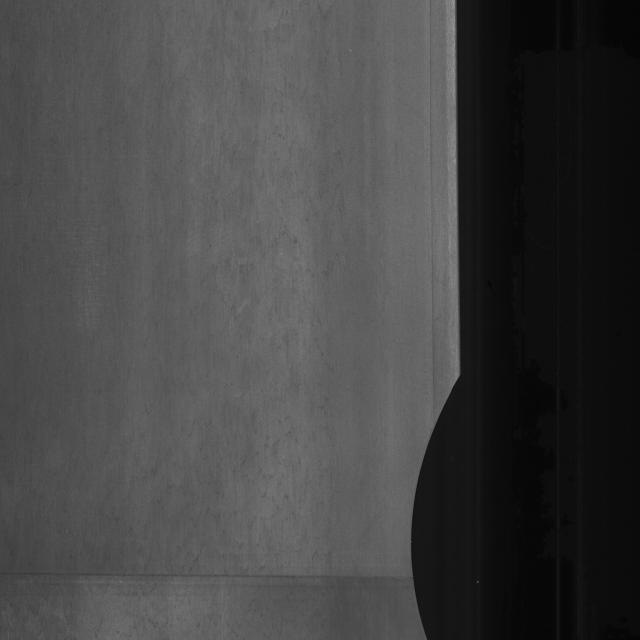crease: (4, 556, 422, 597)
